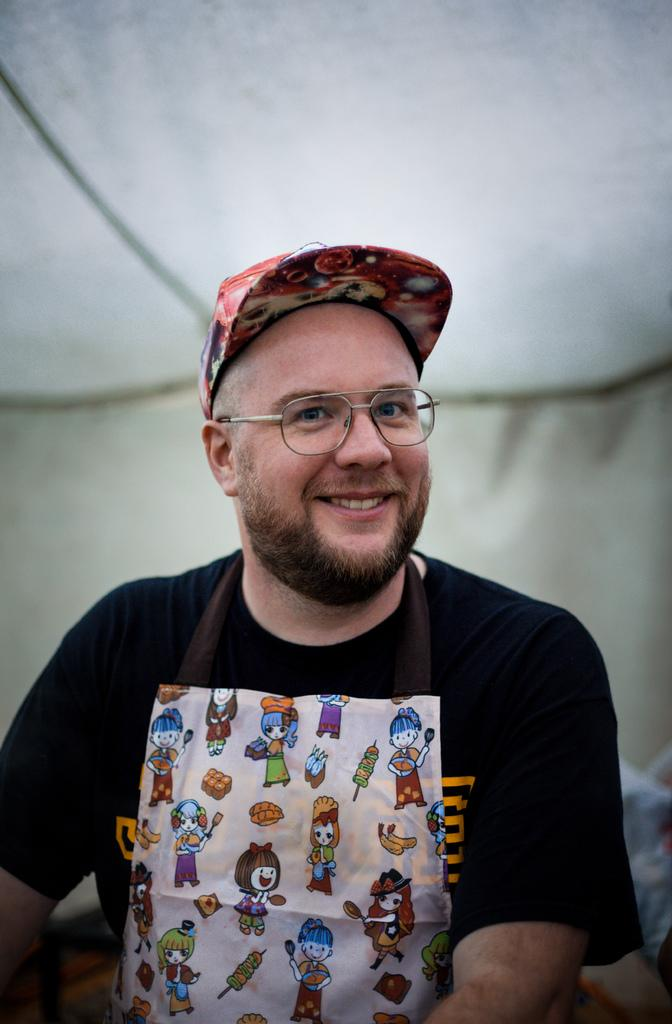Sem Máscara: (234, 313, 428, 581)
